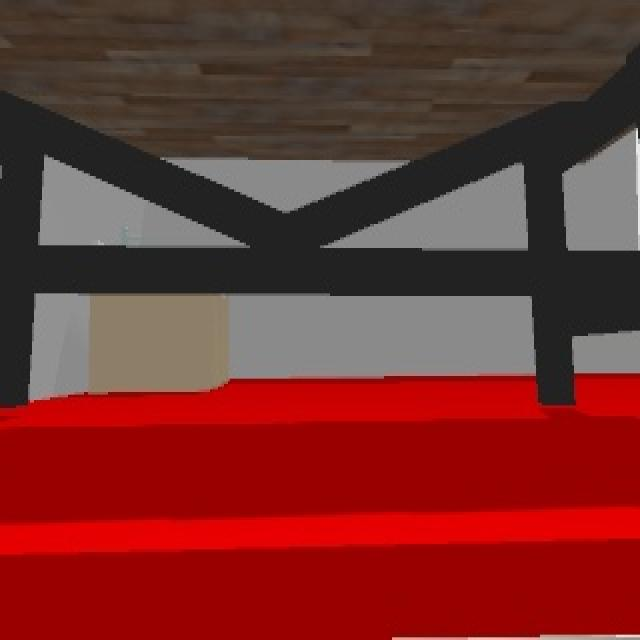dining: (1, 6, 640, 407)
